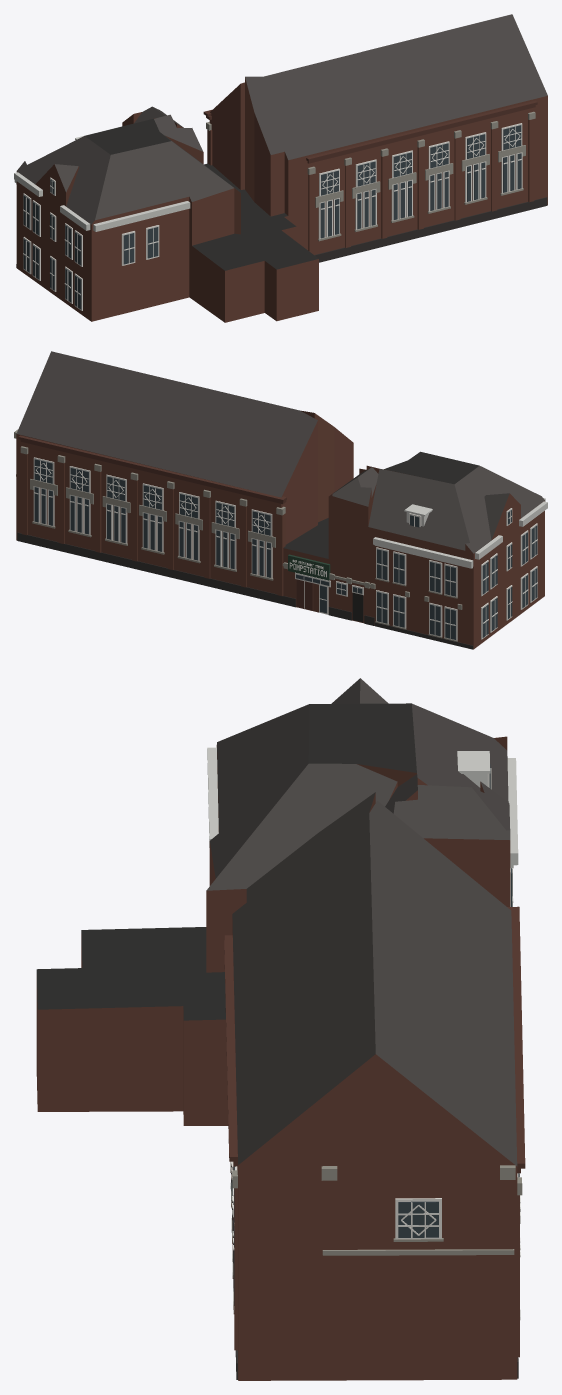
The model's file is rioolgemaal-zeeburgerdijk.glb.
3 renders of one model, top to bottom at view 1: azimuth 30°, elevation 25°; view 2: azimuth 150°, elevation 25°; view 3: azimuth 270°, elevation 25°, orthographic. The views are drawn at different scales.
Visible parts, largest first — view 1: rioolgemaal-zeeburgerdijk; view 2: rioolgemaal-zeeburgerdijk; view 3: rioolgemaal-zeeburgerdijk.
Part boxes in pixels (box(x1,y1,x2,y2)): rioolgemaal-zeeburgerdijk: box(14, 14, 547, 322); rioolgemaal-zeeburgerdijk: box(14, 351, 547, 649); rioolgemaal-zeeburgerdijk: box(36, 678, 525, 1380).
Bounding box in the file's own units: 40.74 × 13.96 × 18.64.
